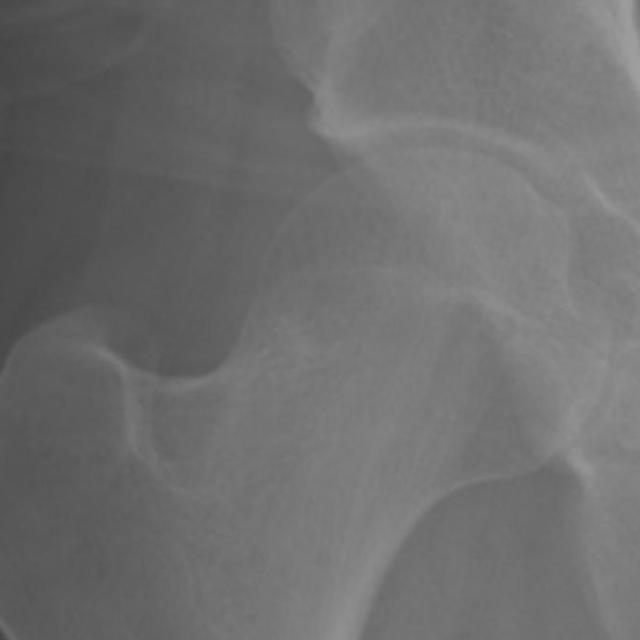Fitted_femural_head: (359, 148, 432, 359)
